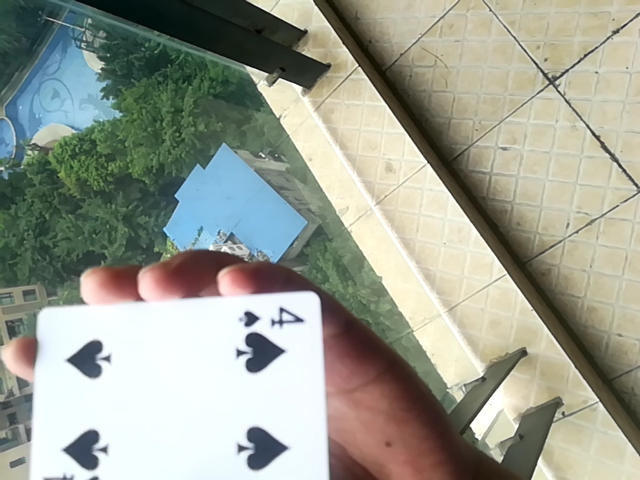ht 4: (16, 286, 338, 480)
